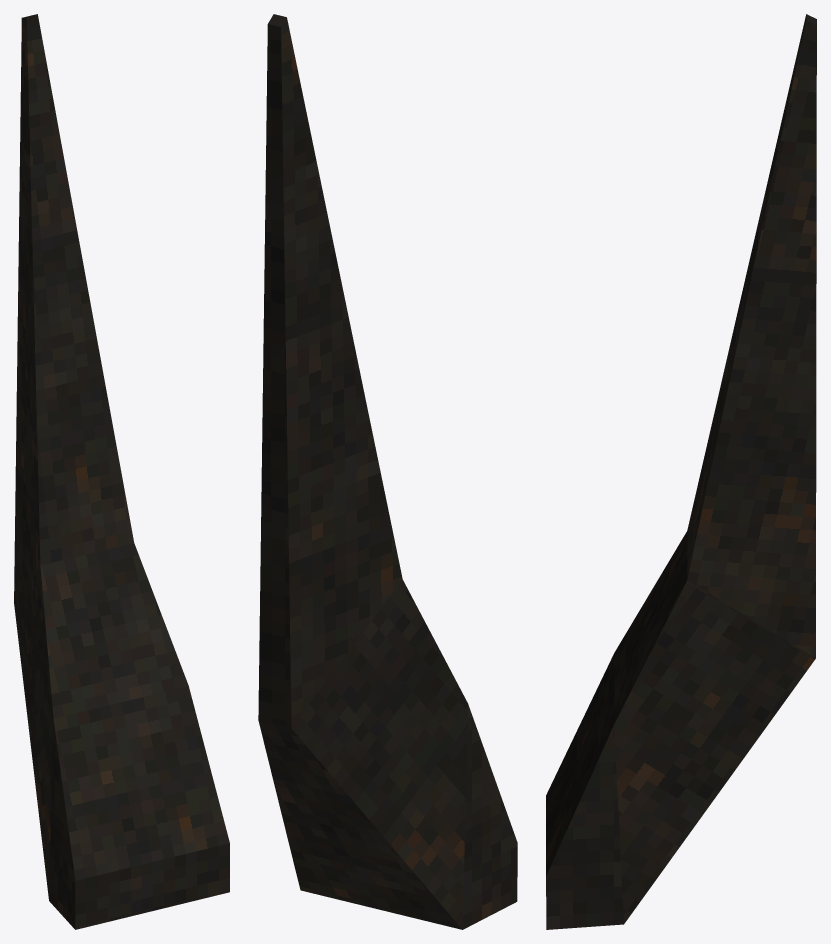
The model's file is pointy_spike_large.obj.
The picture shows the model from 3 angles, left to right: view 1: azimuth 30°, elevation 25°; view 2: azimuth 150°, elevation 25°; view 3: azimuth 270°, elevation 25°; orthographic projection. The views are drawn at different scales.
Parts seen in each view (by area): view 1: cuboid; view 2: cuboid; view 3: cuboid.
Part boxes in pixels (x1,y1,x2,y2): cuboid: [14, 14, 229, 929]; cuboid: [258, 14, 517, 929]; cuboid: [546, 14, 816, 929].
Bounding box in the file's own units: 0.875 × 4.37 × 1.23.
